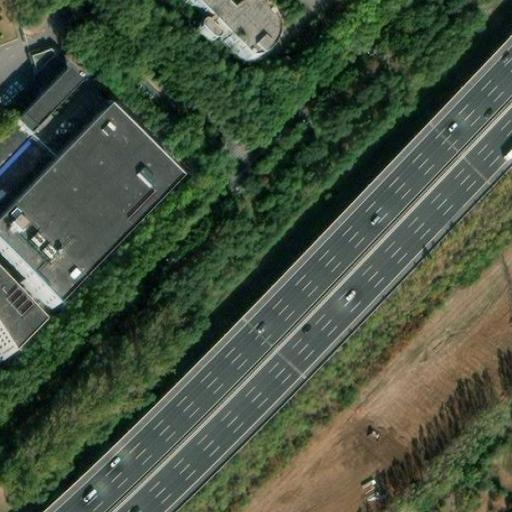building: (178, 0, 269, 66), (21, 63, 88, 129), (0, 295, 35, 362), (24, 39, 59, 72)
